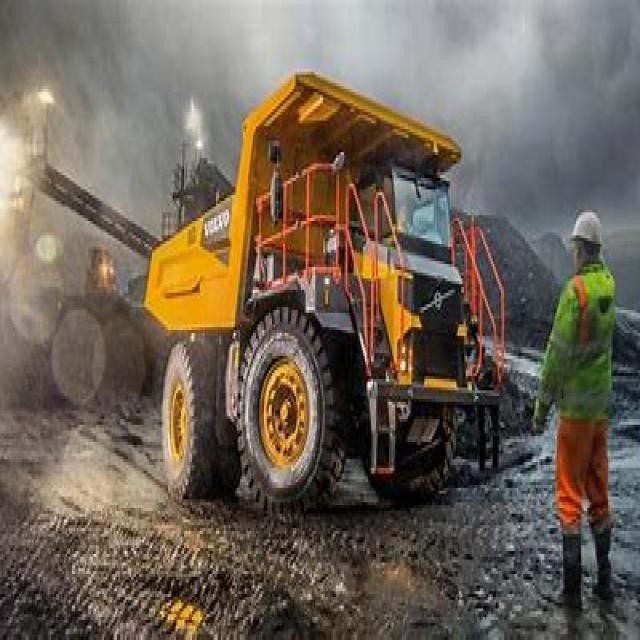dump_truck: (133, 58, 512, 522)
